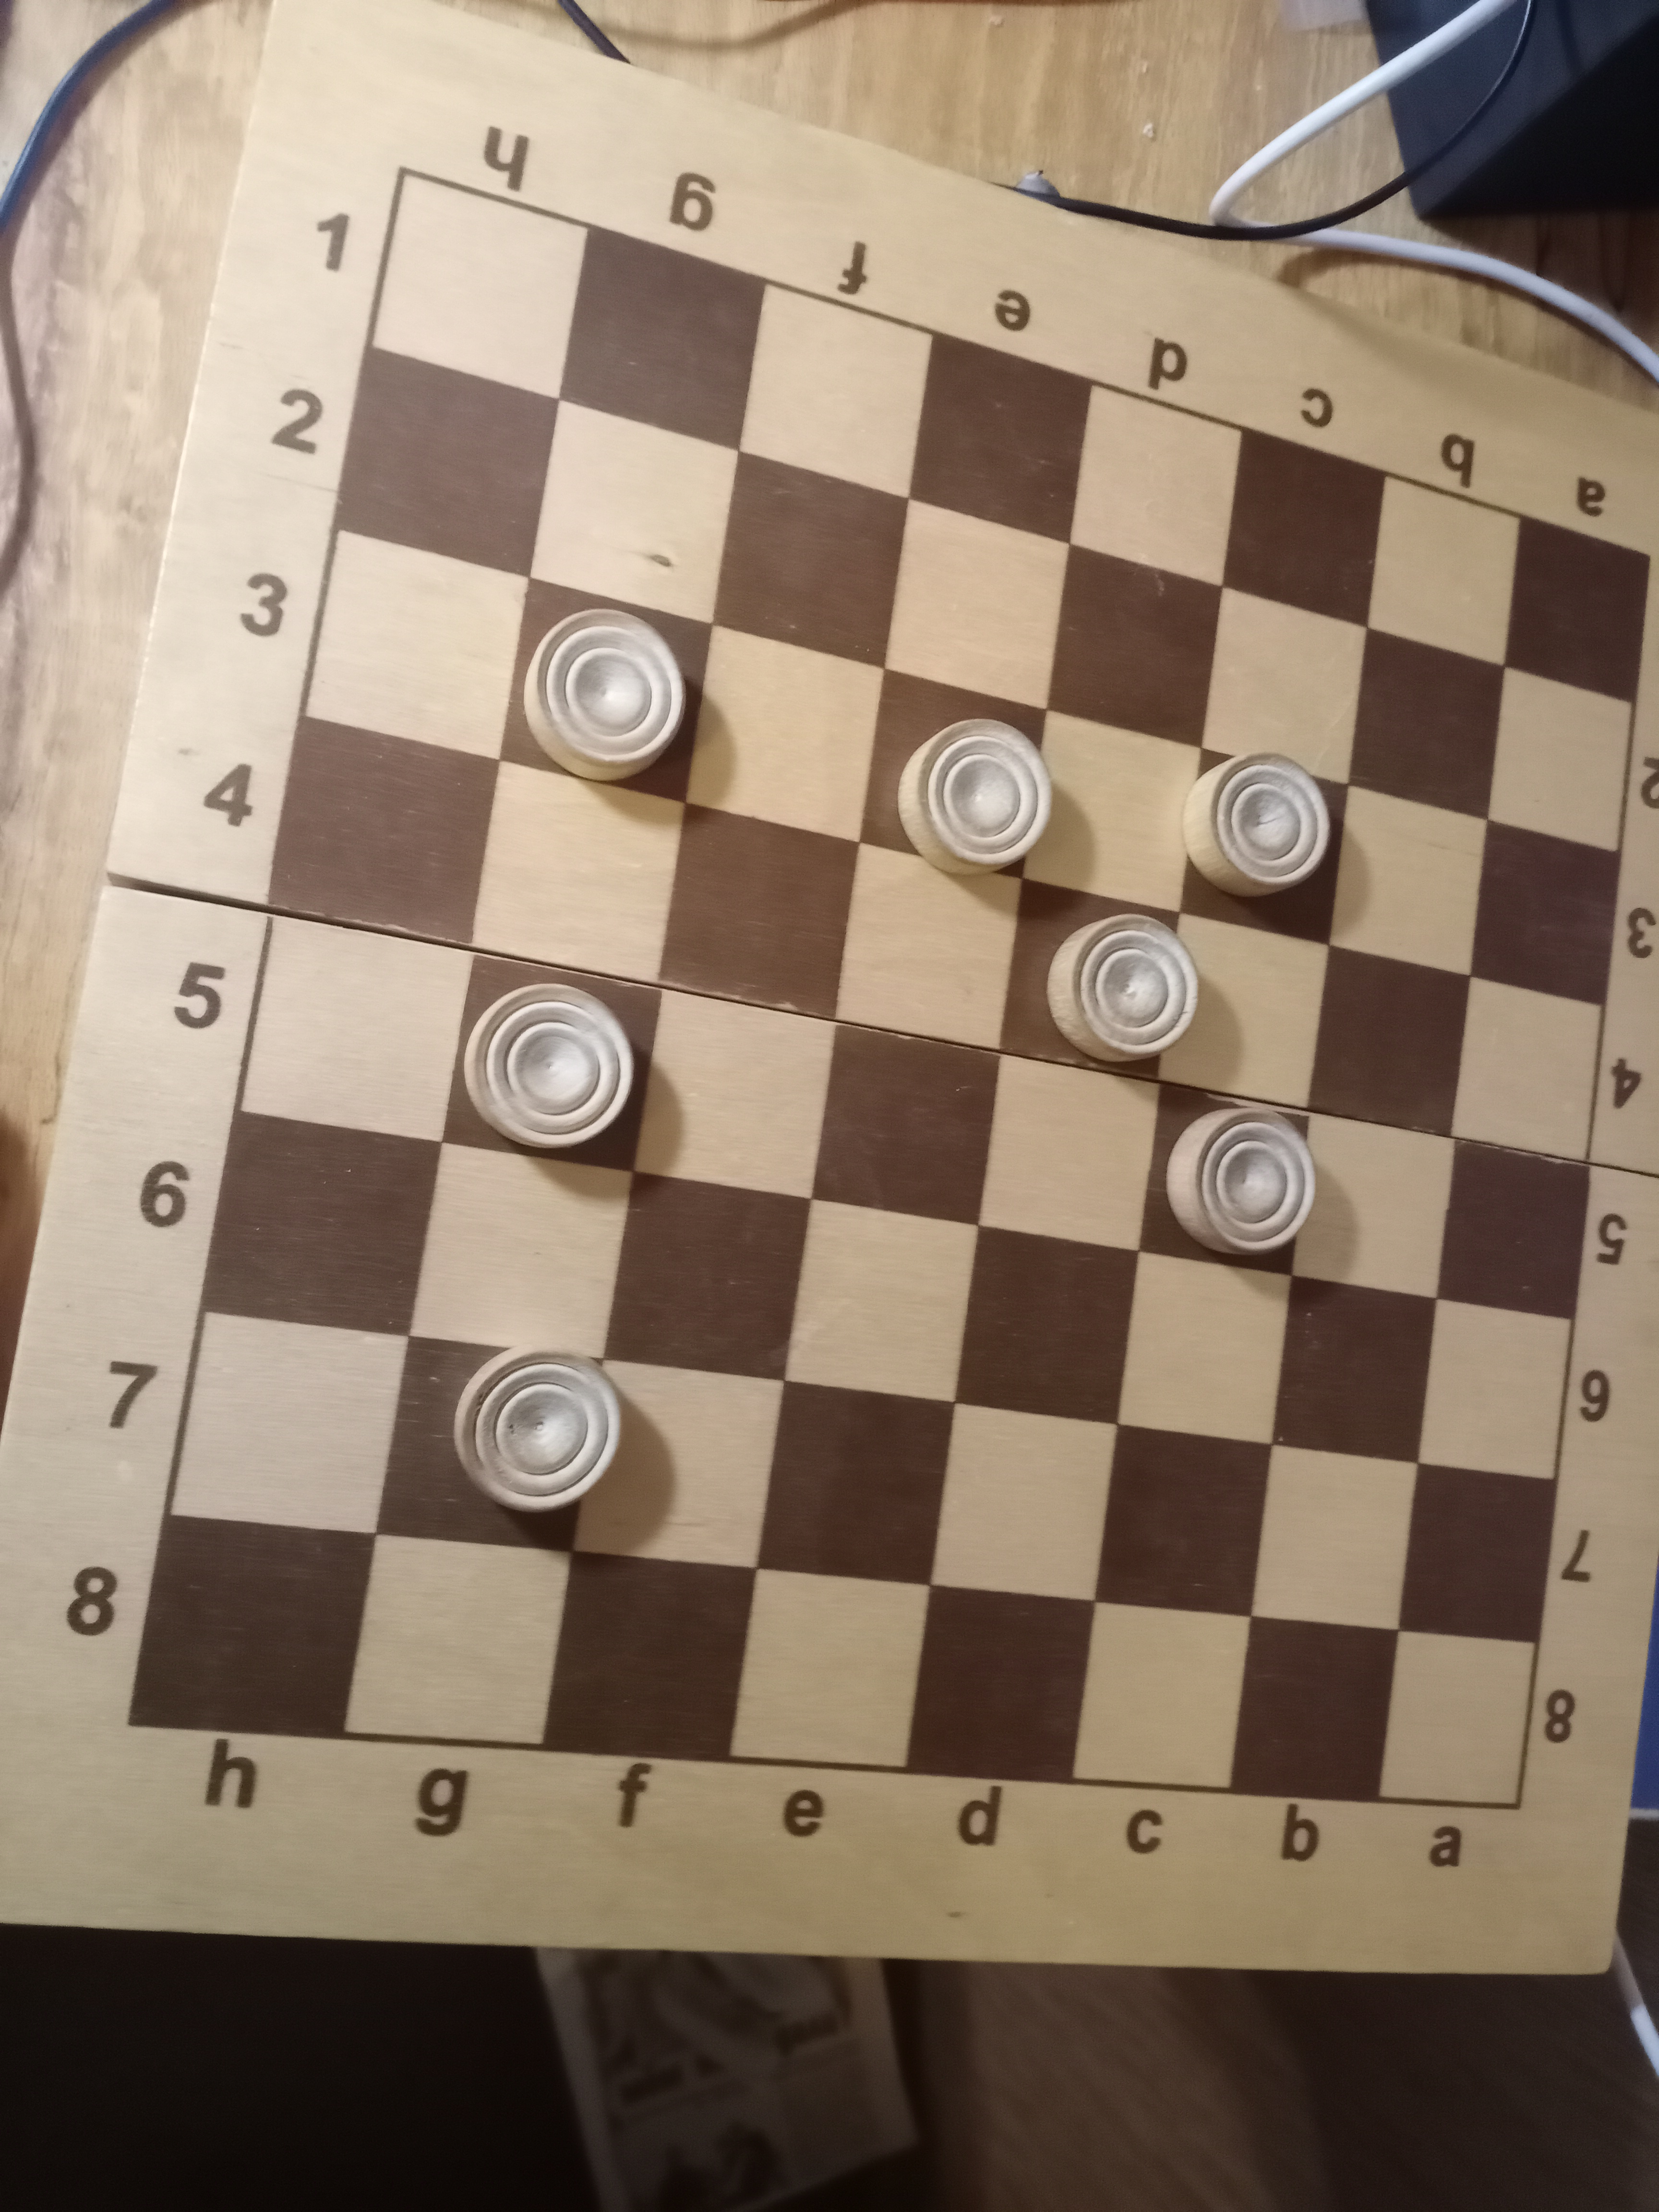White_Draught: (375, 1336, 622, 1552), (498, 578, 713, 803), (443, 954, 662, 1172), (999, 881, 1201, 1082), (861, 669, 1053, 880), (1138, 1082, 1317, 1277), (1182, 749, 1349, 944)
